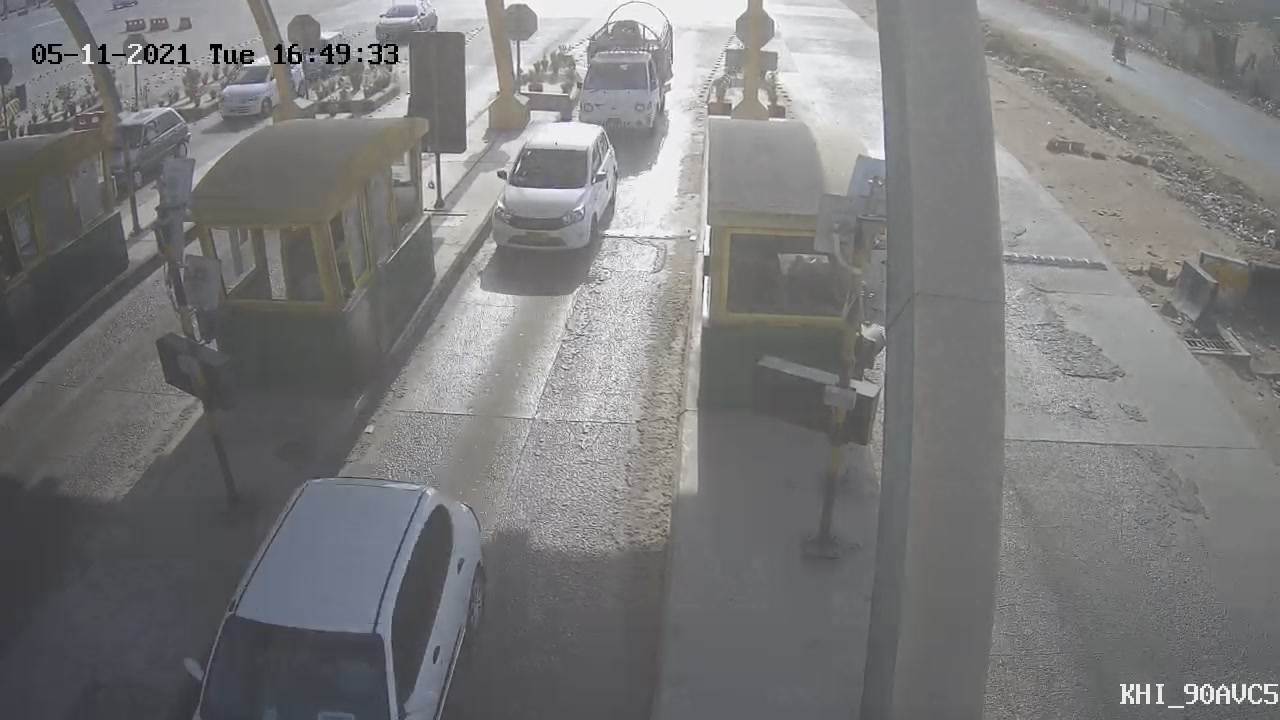F1: (473, 117, 633, 269)
F2: (569, 4, 687, 156)
